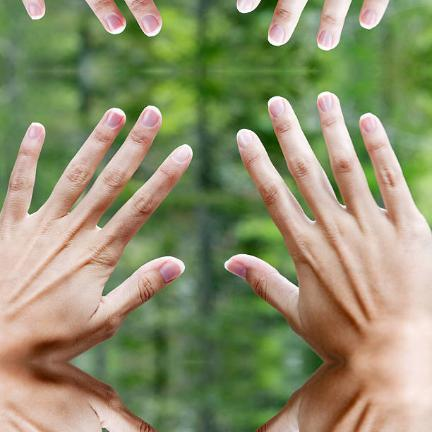Nail: (159, 256, 185, 283), (141, 104, 162, 126), (141, 14, 162, 36), (224, 259, 246, 279), (105, 106, 124, 127), (105, 13, 124, 34), (268, 95, 285, 116), (268, 24, 285, 45), (173, 143, 192, 161), (359, 112, 376, 131), (359, 9, 376, 28), (318, 90, 333, 110), (318, 30, 333, 50), (237, 129, 253, 147), (28, 123, 40, 138), (28, 2, 40, 17), (237, 0, 253, 11)
